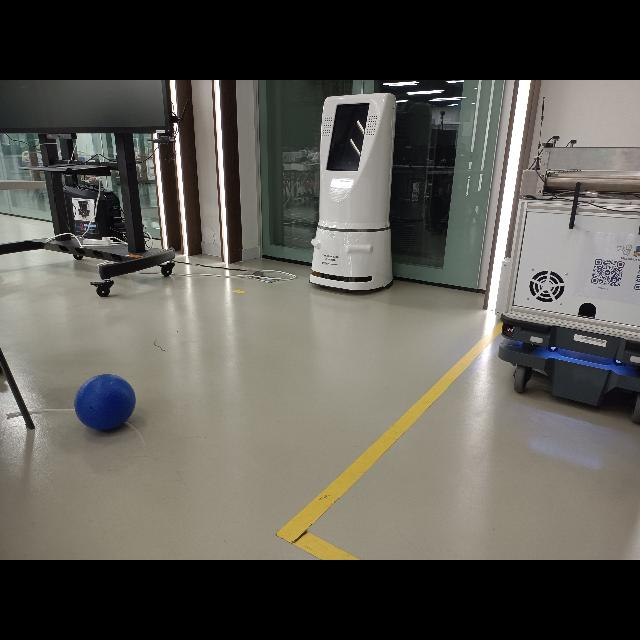B: (74, 374, 136, 432)
